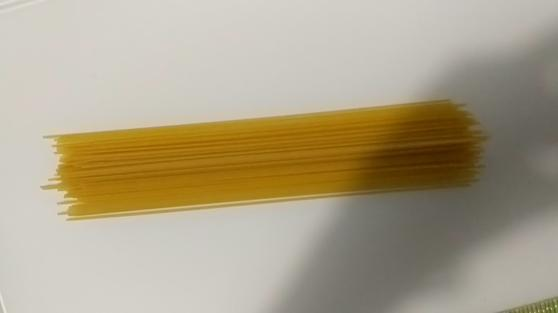spaghetti: (37, 91, 498, 239)
